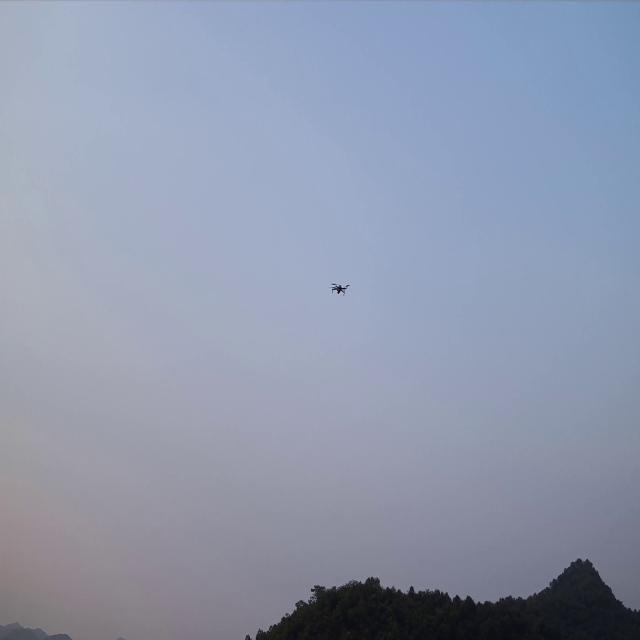UAV: (327, 282, 351, 296)
